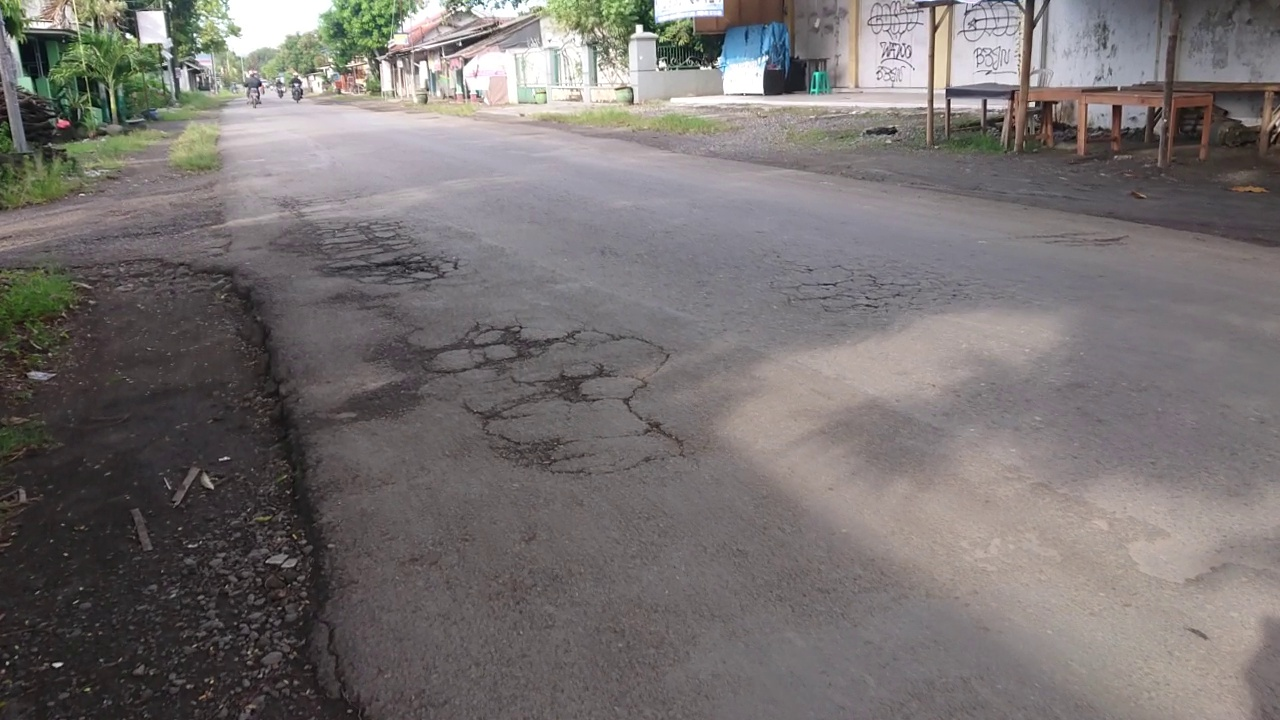Retak: (412, 333, 698, 476), (289, 217, 492, 323), (760, 261, 951, 335)
